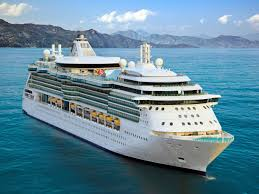tau_dansu: (26, 46, 228, 172)
